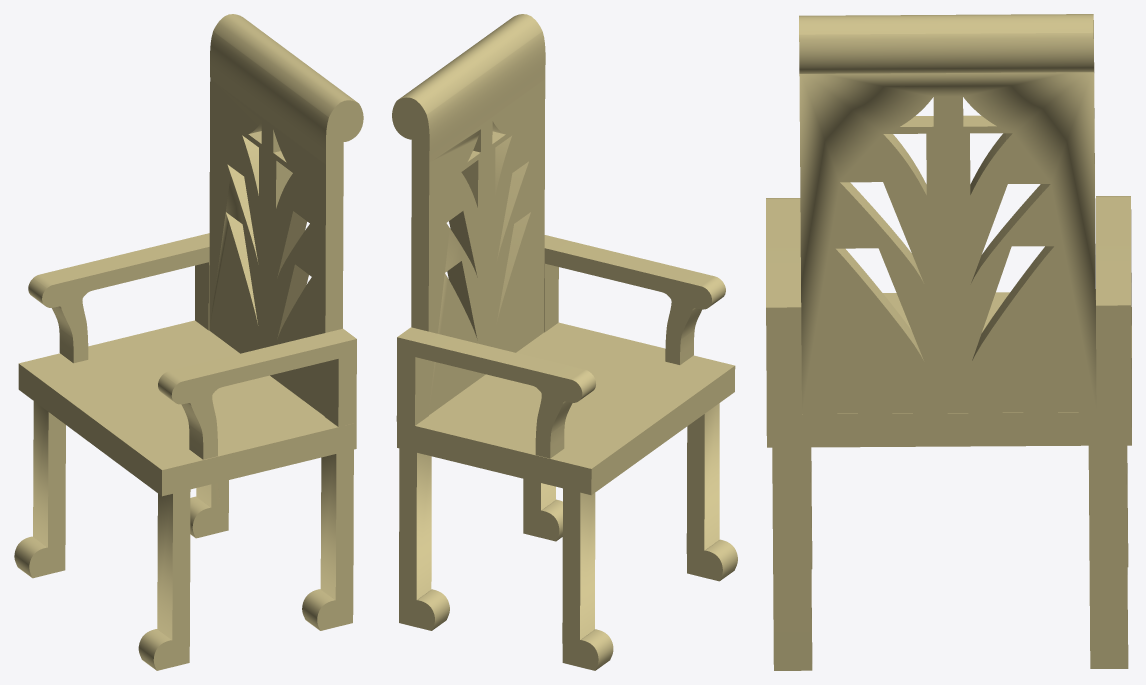
Rendered from chair_fancy.fbx.
The picture shows the model from 3 angles, left to right: view 1: azimuth 30°, elevation 25°; view 2: azimuth 150°, elevation 25°; view 3: azimuth 270°, elevation 25°; orthographic projection. The views are drawn at different scales.
Parts seen in each view (by area): view 1: back, seat, legs, arm.001, arm; view 2: back, seat, legs, arm, arm.001; view 3: back, legs, seat, arm, arm.001.
Boxes of the visible parts, left/top/right/bottom form: back: left=209, top=14, right=363, bottom=415; seat: left=18, top=320, right=356, bottom=496; legs: left=14, top=401, right=353, bottom=670; arm.001: left=158, top=328, right=356, bottom=459; arm: left=28, top=233, right=209, bottom=363; back: left=392, top=14, right=545, bottom=414; seat: left=397, top=322, right=735, bottom=495; legs: left=399, top=403, right=737, bottom=670; arm: left=396, top=327, right=595, bottom=458; arm.001: left=544, top=235, right=725, bottom=364; back: left=799, top=14, right=1096, bottom=413; legs: left=772, top=445, right=1128, bottom=670; seat: left=766, top=292, right=1131, bottom=447; arm: left=1096, top=196, right=1131, bottom=412; arm.001: left=766, top=198, right=801, bottom=414.
Size of the model in its own units: 1.77 by 3.98 by 2.01.
